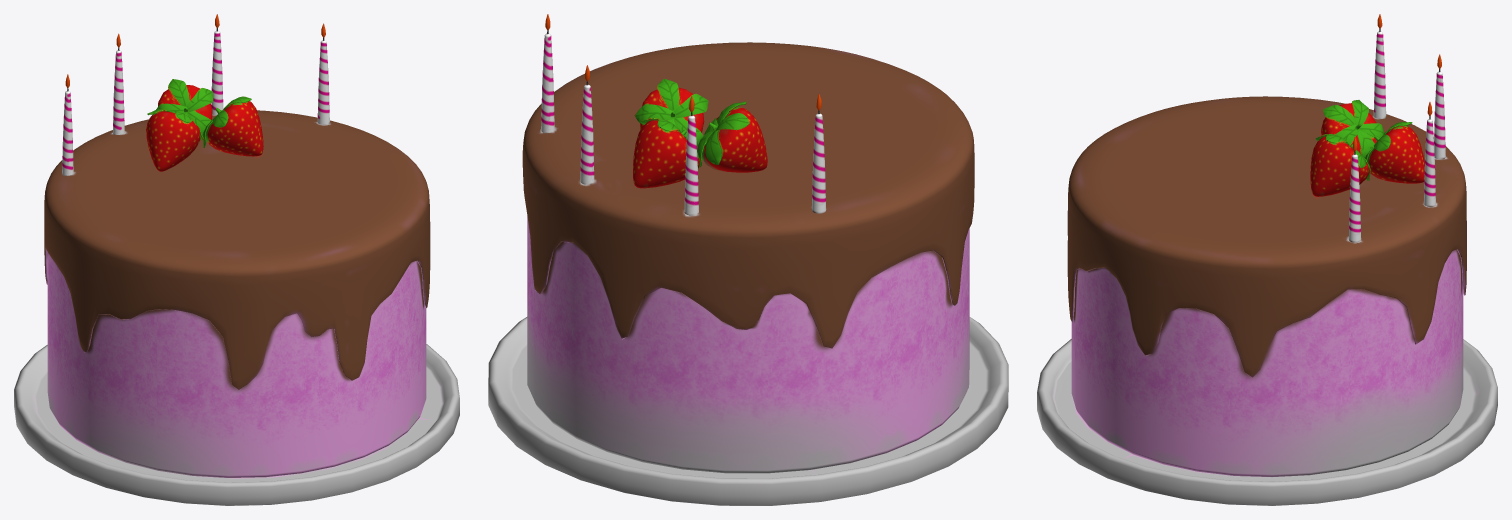
File: strawberry cake.obj
3 views of the same model, side by side, from view 1: azimuth 30°, elevation 25°; view 2: azimuth 150°, elevation 25°; view 3: azimuth 270°, elevation 25° (orthographic). The views are drawn at different scales.
Parts seen in each view (by area): view 1: strawbery_cake; view 2: strawbery_cake; view 3: strawbery_cake.
Part boxes in pixels (x1,y1,x2,y2): strawbery_cake: (14, 14, 459, 505); strawbery_cake: (488, 14, 1008, 505); strawbery_cake: (1037, 14, 1497, 505).
Bounding box in the file's own units: 1.58 × 1.28 × 1.58.
